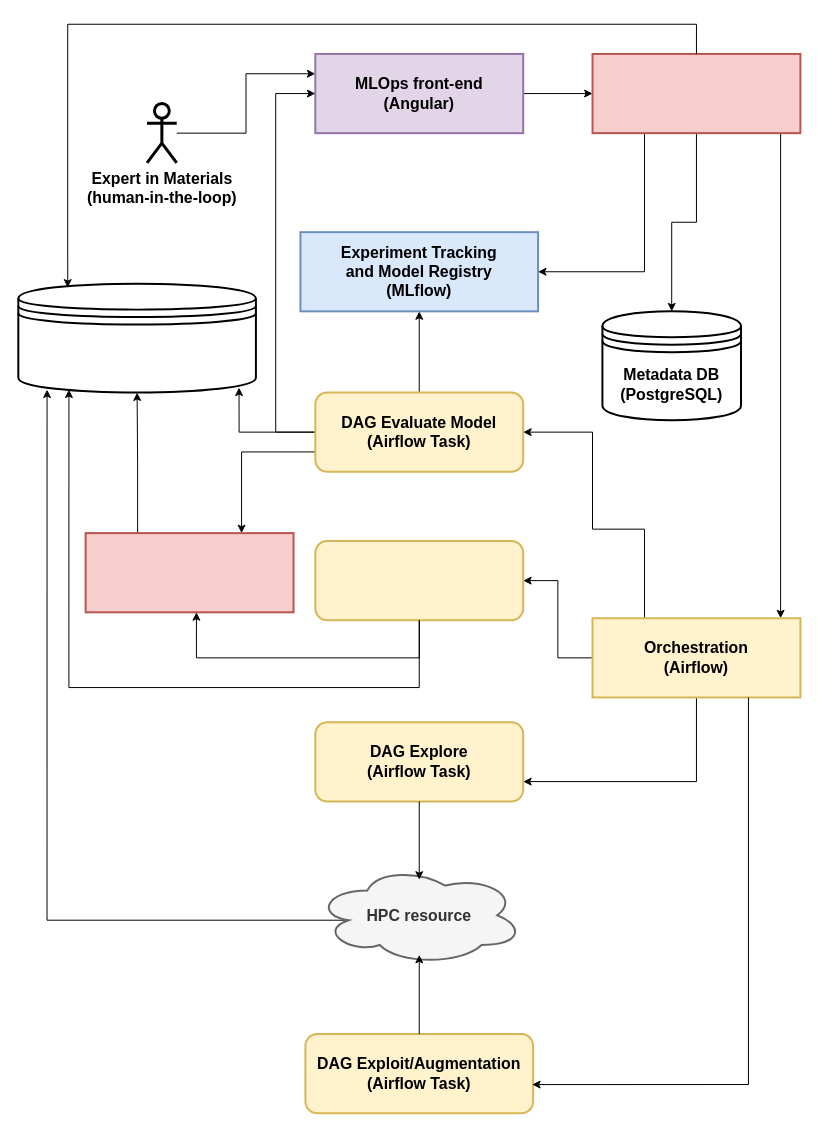
Some shapes in this 818 by 1132 pixel diagram are drawn without their labels. Each missing label, with the box of its shape:
DAG ETL Model (Airflow Task ): (314, 540, 524, 621)
MLOps back-end (Spring Framework): (591, 52, 801, 134)
Simulation Outputs and DBIs (Local/S3): (17, 282, 256, 393)
Thin microservices for ML specifics (FastAPI): (84, 532, 294, 613)
